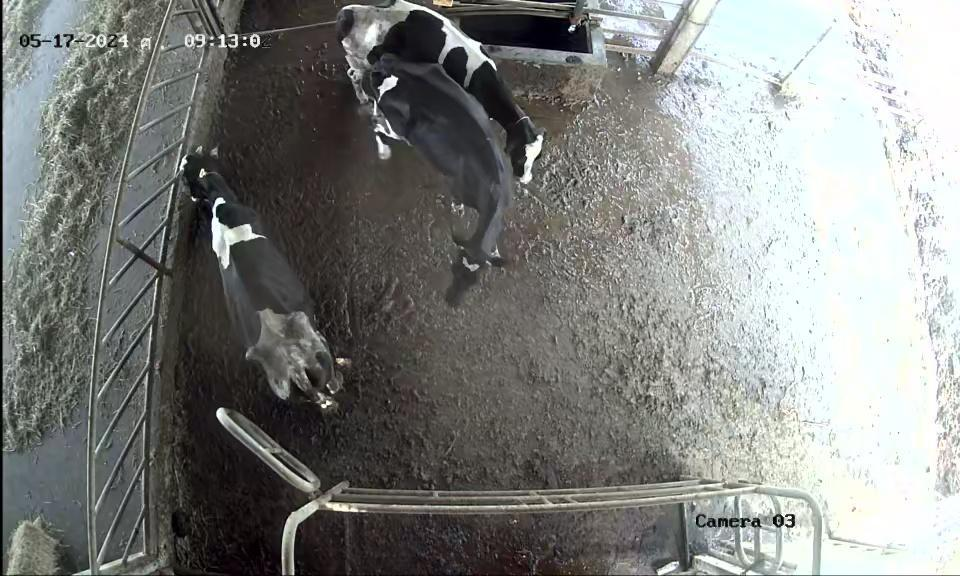stand: (165, 139, 360, 415), (339, 55, 507, 313), (333, 3, 556, 182)
